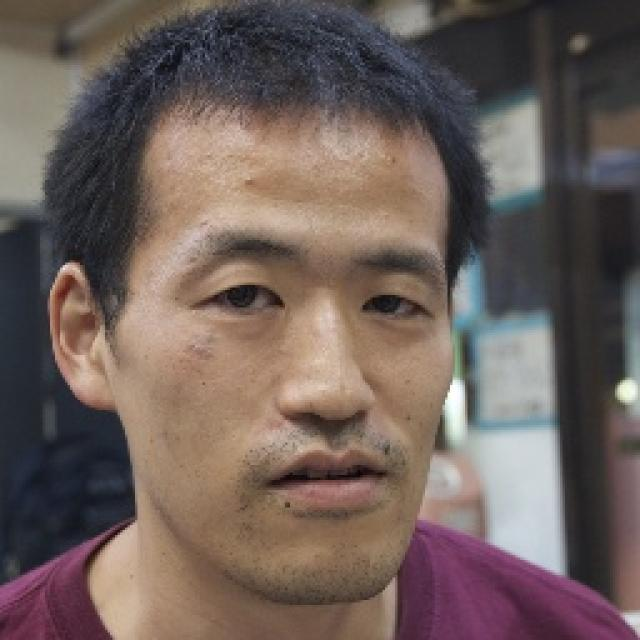earlobe: (48, 263, 115, 412)
